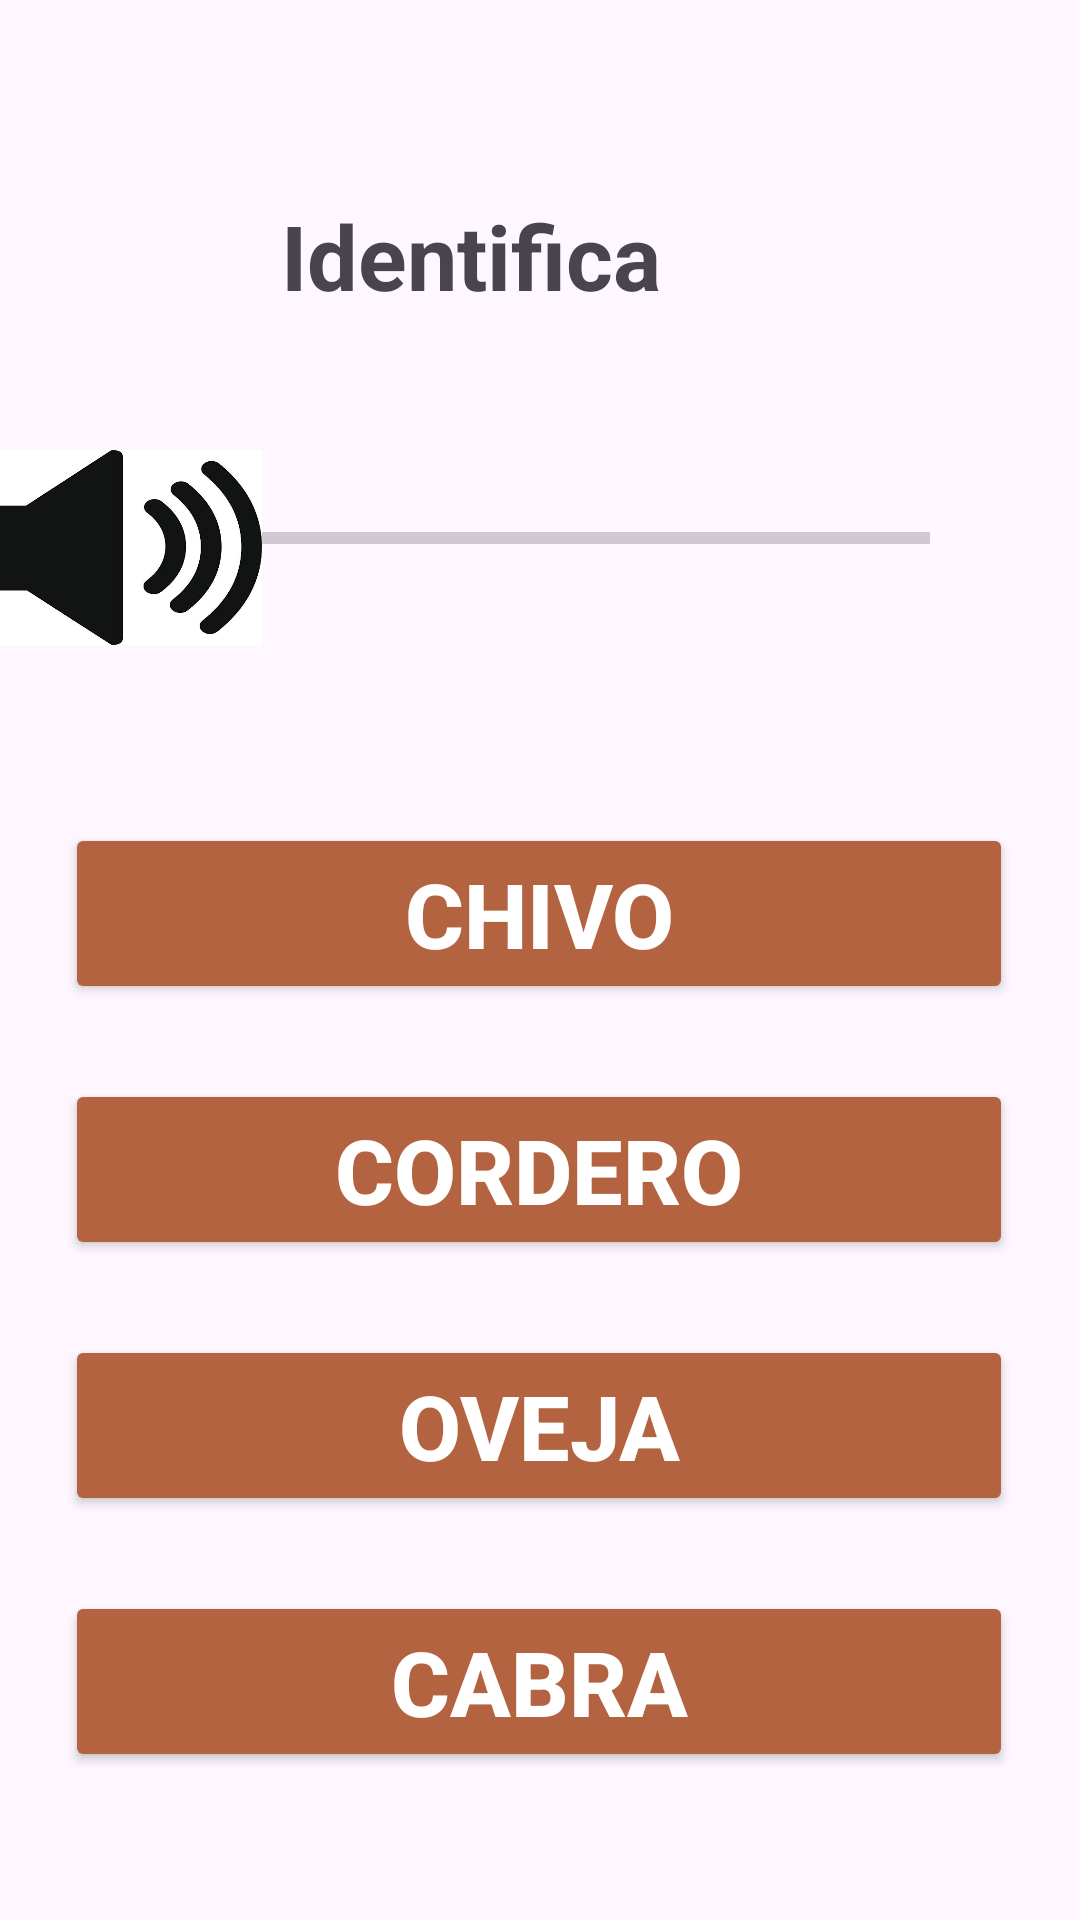

Named icons in this screenshot (1080 × 1920) and their bounding boxes, (x1,y1,x2,y2):
audio: (0,450,222,645)
